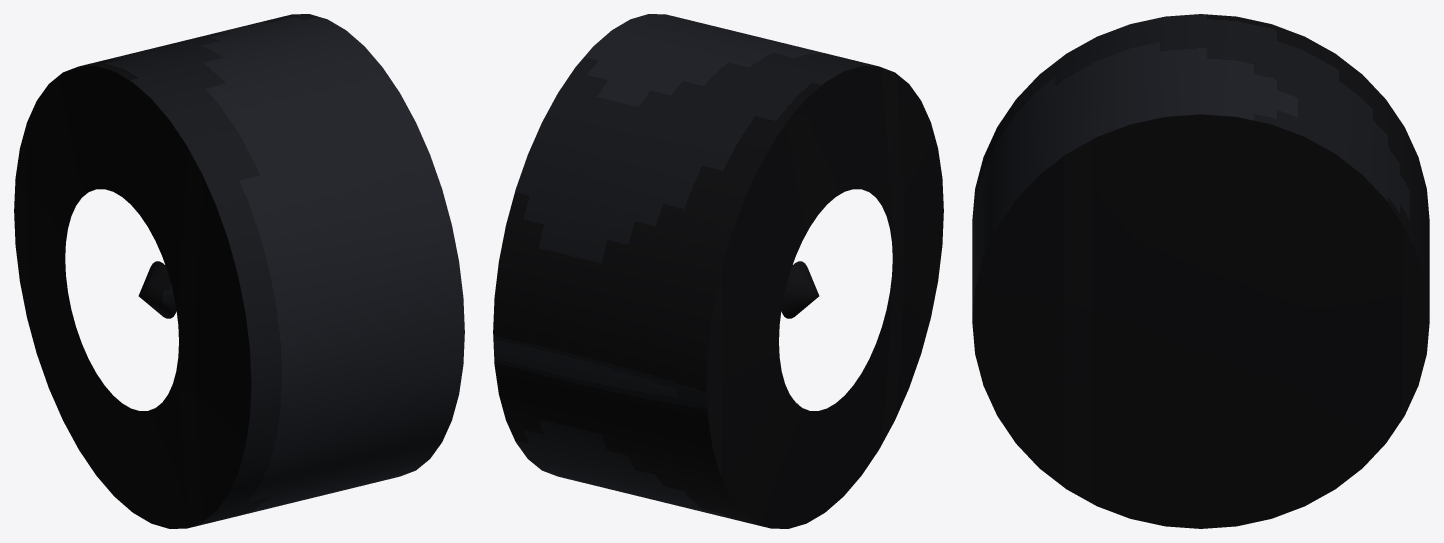
File: F1_2009_fw31_wheel_rear.glb
3 views of the same model, side by side, from view 1: azimuth 30°, elevation 25°; view 2: azimuth 150°, elevation 25°; view 3: azimuth 270°, elevation 25° (orthographic). The views are drawn at different scales.
Visible parts, largest first — view 1: GEO_WHEEL_TIRE_OUTER, GEO_WHEEL_TREAD, GEO_WHEEL_HUB; view 2: GEO_WHEEL_TIRE_OUTER, GEO_WHEEL_TREAD, GEO_WHEEL_HUB; view 3: GEO_WHEEL_TREAD, GEO_WHEEL_TIRE_OUTER.
Boxes of the visible parts, x1,y1,x2,y2 form: GEO_WHEEL_TIRE_OUTER: (80,14,464,528); GEO_WHEEL_TREAD: (14,66,251,528); GEO_WHEEL_HUB: (138,261,176,318); GEO_WHEEL_TIRE_OUTER: (493,14,877,528); GEO_WHEEL_TREAD: (706,66,943,528); GEO_WHEEL_HUB: (781,261,819,318); GEO_WHEEL_TREAD: (972,114,1429,528); GEO_WHEEL_TIRE_OUTER: (972,14,1429,318).
Bounding box in the file's own units: 0.375 × 0.66 × 0.66.
Materials: 4 (4 with a texture image).
